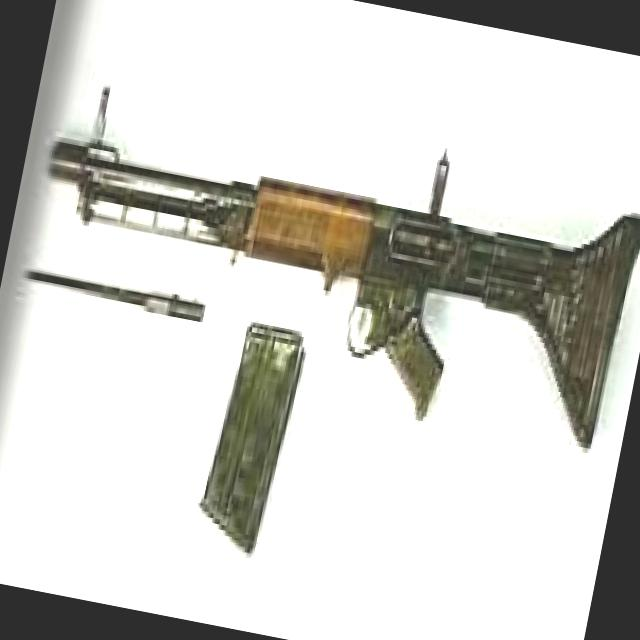long weapon: (11, 78, 639, 437)
